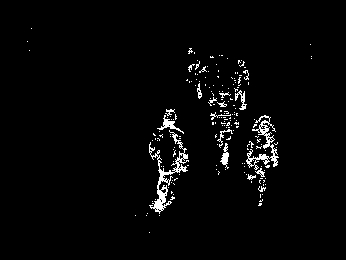person: (146, 106, 191, 215), (243, 112, 278, 208), (210, 86, 238, 172), (231, 57, 252, 112), (187, 57, 209, 100)
